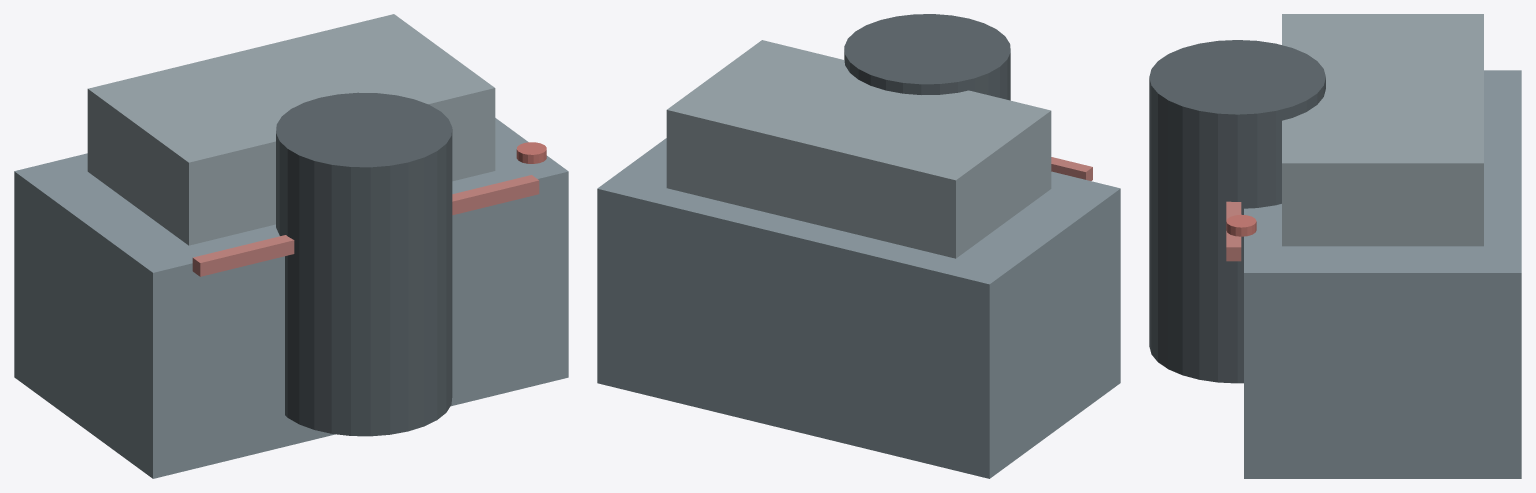
The model's file is machine_lod1.glb.
The picture shows the model from 3 angles, left to right: view 1: azimuth 30°, elevation 25°; view 2: azimuth 150°, elevation 25°; view 3: azimuth 270°, elevation 25°; orthographic projection. The views are drawn at different scales.
Parts seen in each view (by area): view 1: base, wheel, top, rail, button; view 2: base, top, wheel, rail; view 3: base, top, wheel, rail, button.
Part boxes in pixels (box(x1,y1,x2,y2)): base: box(14, 118, 568, 478); wheel: box(276, 92, 452, 436); top: box(87, 14, 495, 245); rail: box(192, 175, 539, 276); button: box(516, 142, 546, 163); base: box(597, 138, 1120, 478); top: box(666, 40, 1051, 258); wheel: box(844, 14, 1010, 100); rail: box(1051, 157, 1092, 180); base: box(1244, 70, 1521, 478); top: box(1282, 14, 1483, 246); wheel: box(1149, 40, 1325, 383); rail: box(1226, 201, 1241, 261); button: box(1226, 214, 1256, 236).
Size of the model in its own units: 3.8 by 2.62 by 2.95.
